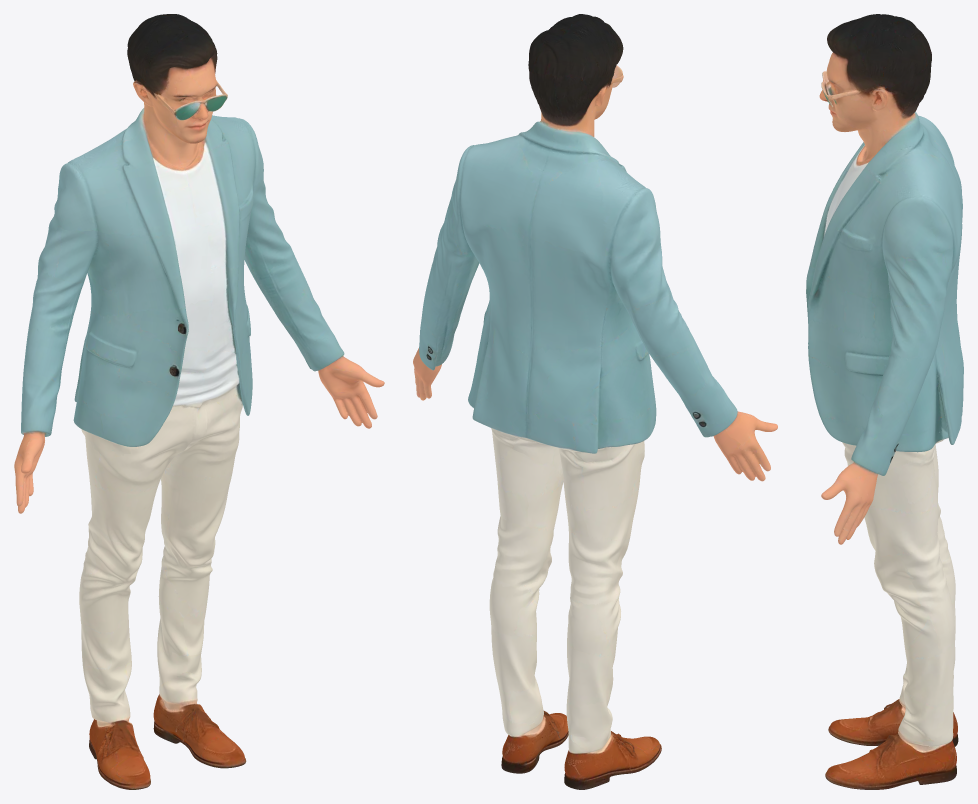
The model's file is rico.glb.
The picture shows the model from 3 angles, left to right: view 1: azimuth 30°, elevation 25°; view 2: azimuth 150°, elevation 25°; view 3: azimuth 270°, elevation 25°; orthographic projection.
Bounding box in the file's own units: 0.9718 × 1.9 × 0.3646.
1 material, 1 textured.
